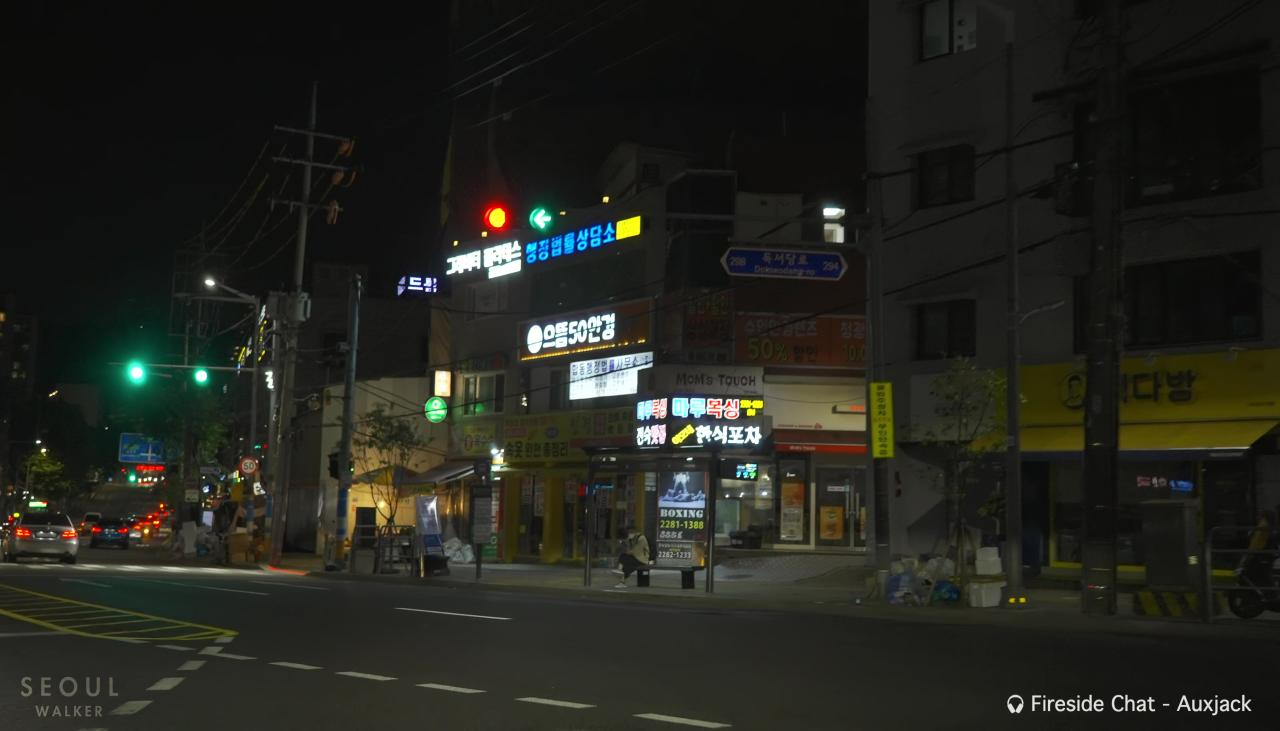Left turn: (530, 206, 552, 231)
Red Light: (486, 205, 507, 232)
